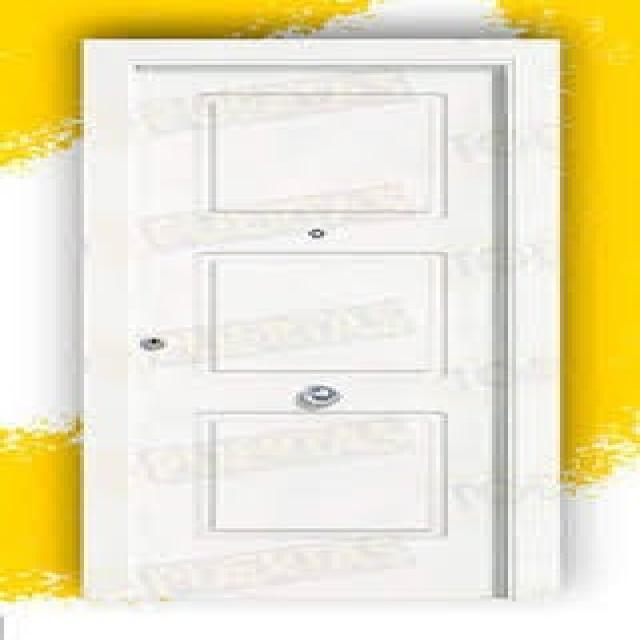door: (80, 38, 556, 602)
